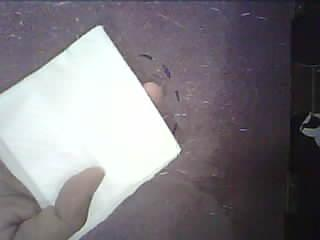paper: (0, 26, 181, 239)
